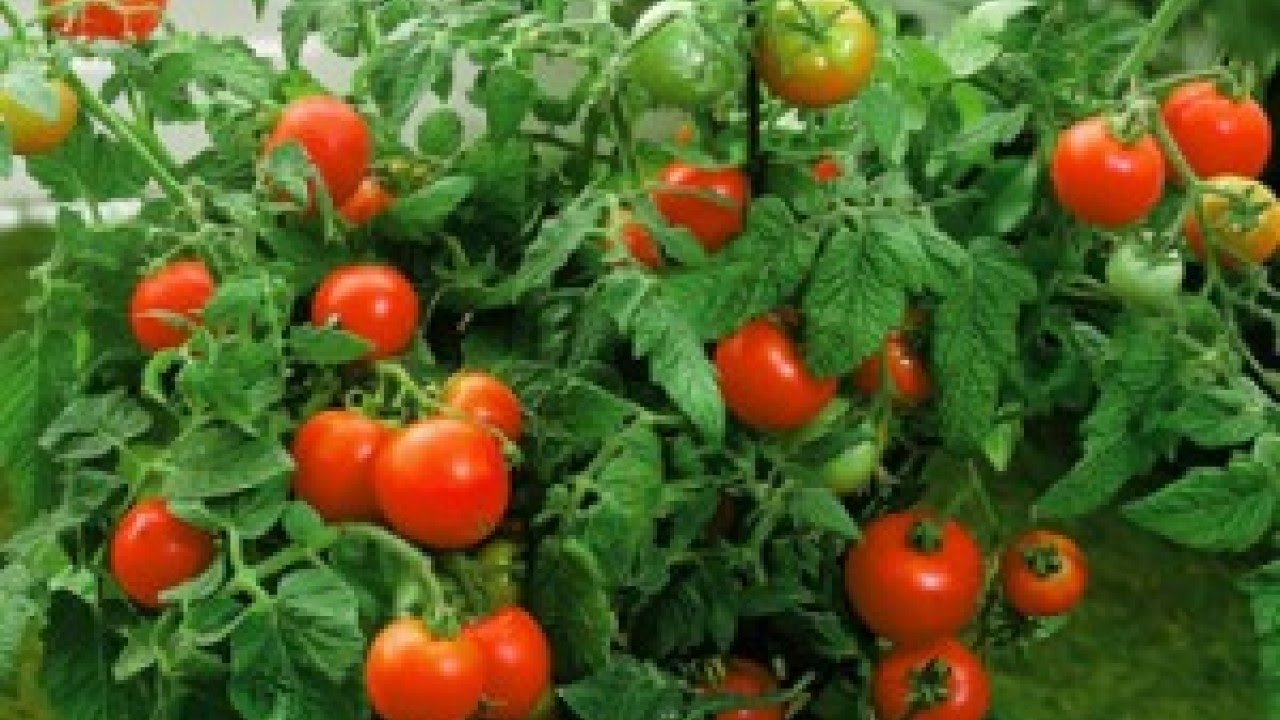tomato: (838, 501, 987, 642), (374, 408, 518, 551), (720, 290, 848, 442), (257, 89, 377, 222), (118, 487, 227, 625), (295, 398, 399, 530), (1056, 111, 1174, 223), (1157, 70, 1273, 181), (363, 615, 482, 717), (860, 639, 996, 720), (315, 261, 413, 372), (126, 256, 221, 353), (996, 526, 1090, 614)
